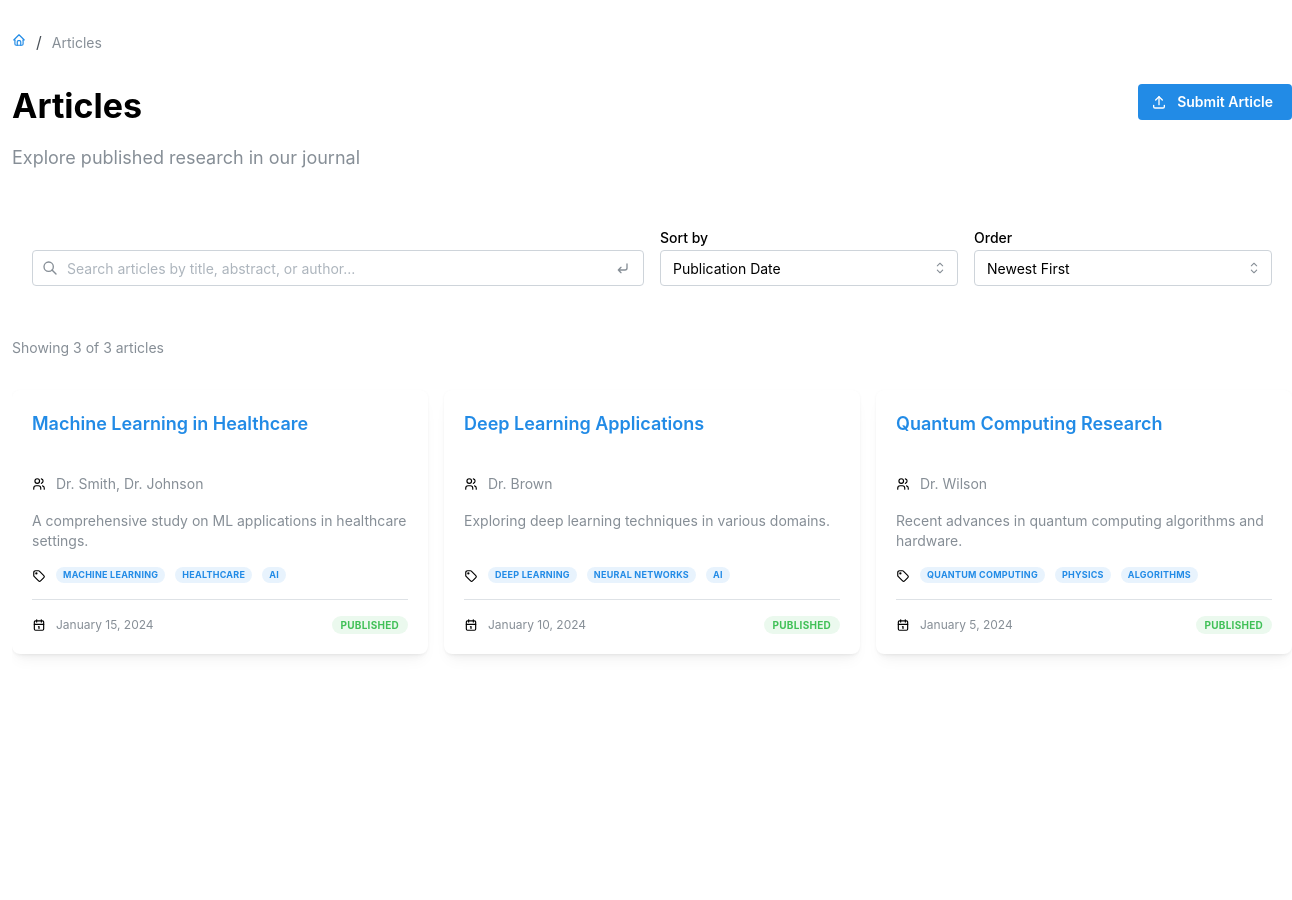
Scenario: Articles Page - Search Functionality › Search Results Display › should display filtered results when search is performed
expect the link "Machine Learning in Healthcare" is shown: met, box top-left (32, 413), bottom-right (308, 434)
expect the link "Deep Learning Applications" is shown: met, box top-left (464, 413), bottom-right (704, 434)
In the field with placeholder "Search articles by title, abstract, or author...": (338, 268) top-left (32, 250), bottom-right (644, 286), type "healthcare"
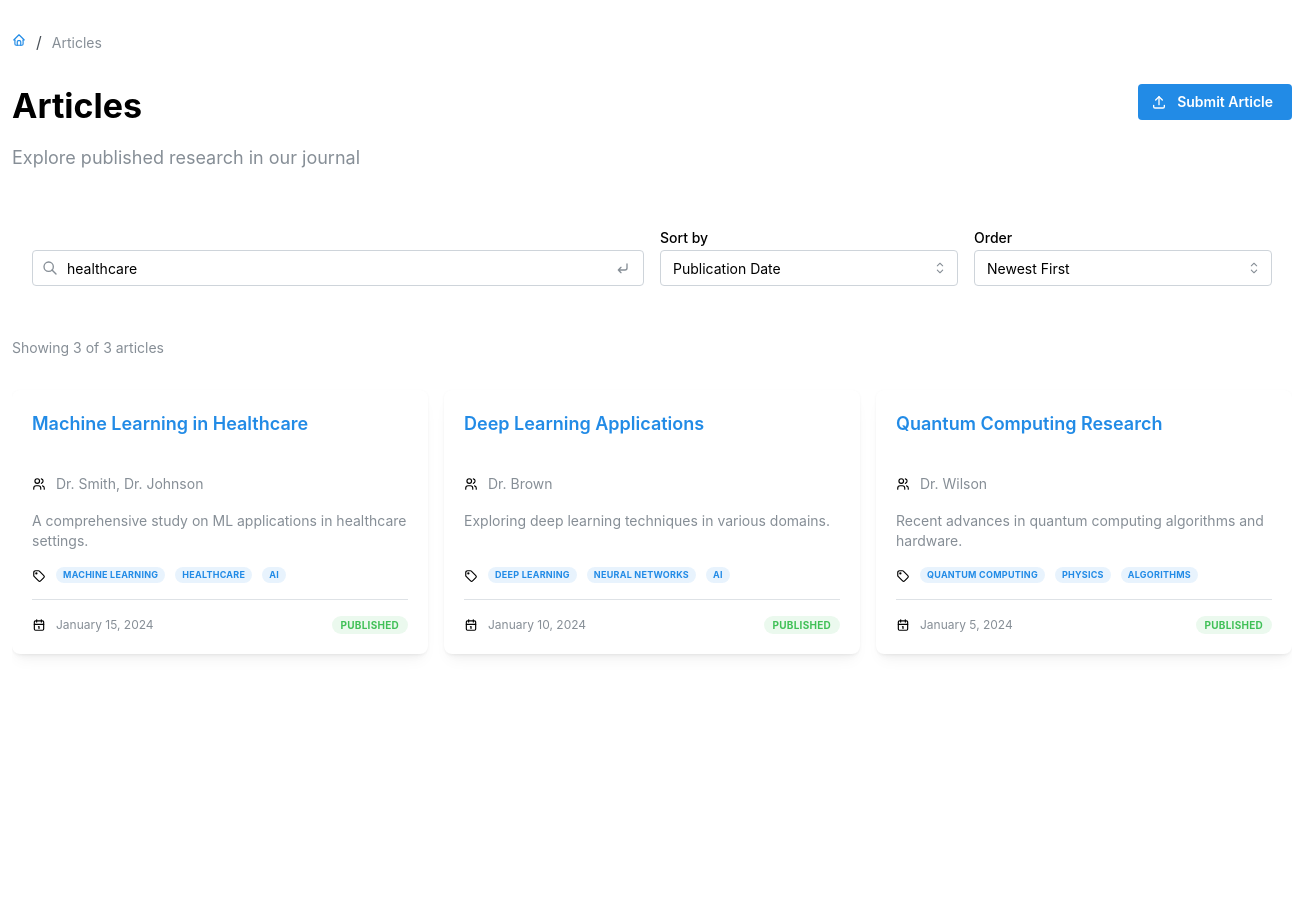
Submit the form with placeholder "Search articles by title, abstract, or author...", box top-left (32, 217), bottom-right (1272, 294)
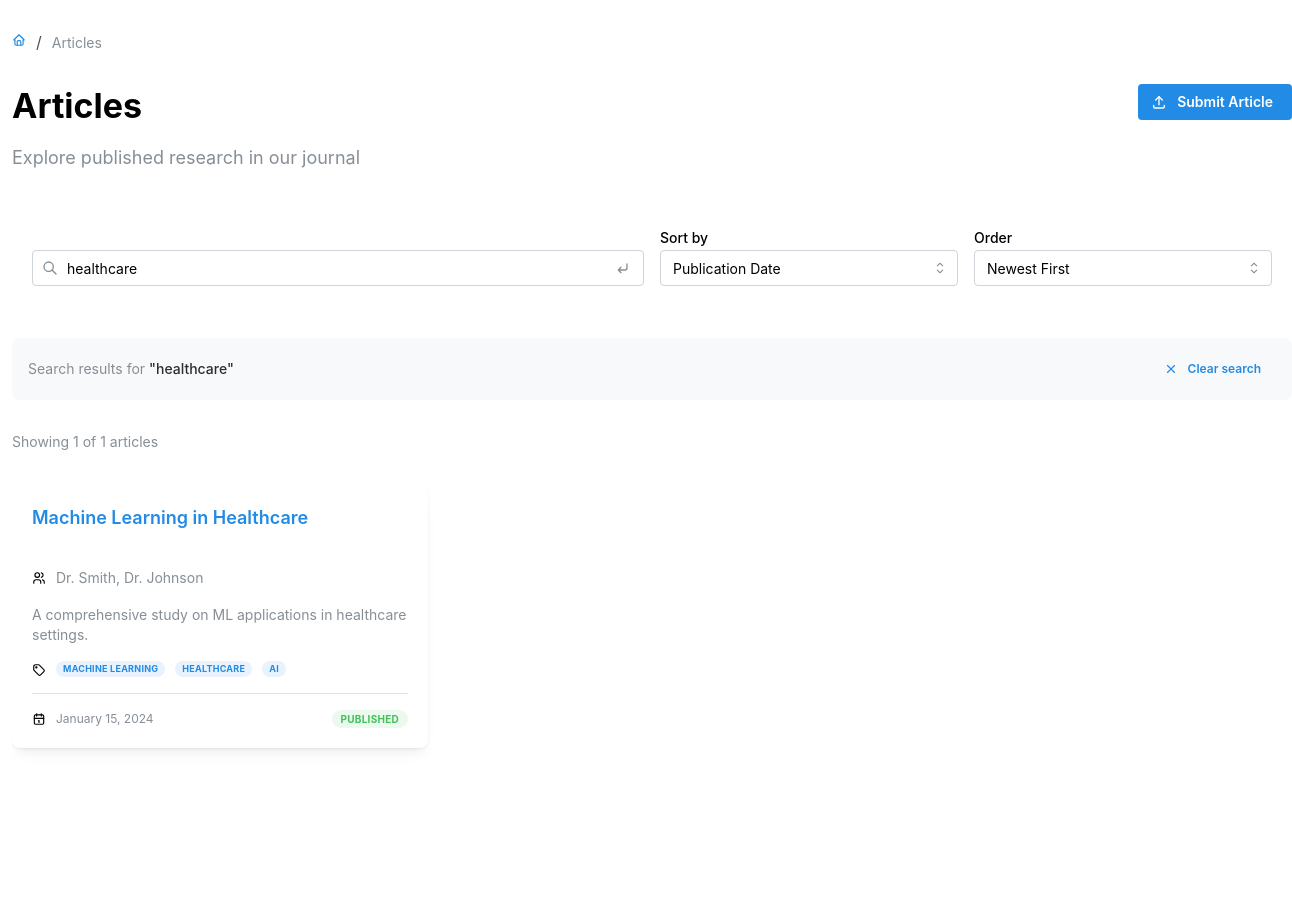
expect the link "Deep Learning Applications" is gone: met
expect the link "Quantum Computing Research" is gone: met
expect the text "Showing 1 of 1 articles" is shown: met, box top-left (12, 432), bottom-right (158, 452)
